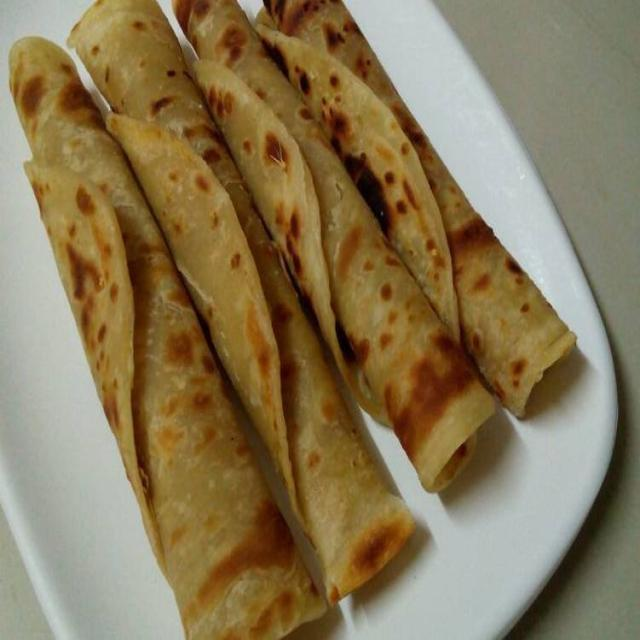CHAPATHI: (7, 0, 574, 639)
